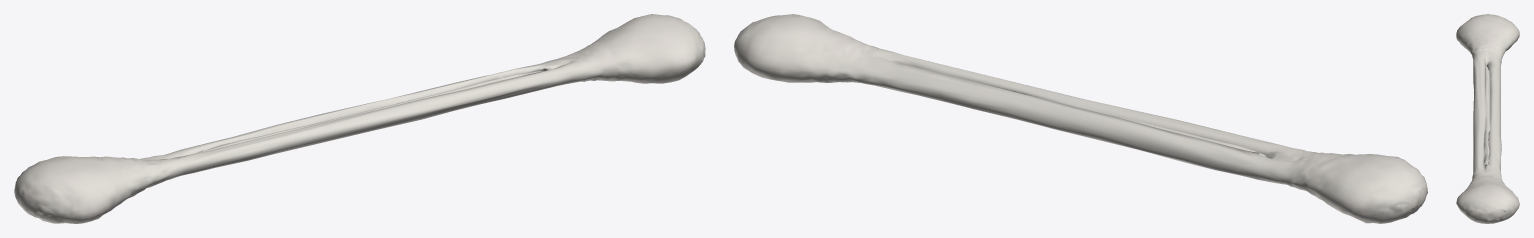
Rendered from 019f4eda-23d4-7015-98ac-538ab8c184fc.glb.
3 views of the same model, side by side, from view 1: azimuth 30°, elevation 25°; view 2: azimuth 150°, elevation 25°; view 3: azimuth 270°, elevation 25° (orthographic). The views are drawn at different scales.
Visible parts, largest first — view 1: tripo_node_932be104-0d7a-4e3b-8c7f-ee897dd96092; view 2: tripo_node_932be104-0d7a-4e3b-8c7f-ee897dd96092; view 3: tripo_node_932be104-0d7a-4e3b-8c7f-ee897dd96092.
Part boxes in pixels (x1,y1,x2,y2): tripo_node_932be104-0d7a-4e3b-8c7f-ee897dd96092: [14, 14, 705, 223]; tripo_node_932be104-0d7a-4e3b-8c7f-ee897dd96092: [734, 14, 1427, 223]; tripo_node_932be104-0d7a-4e3b-8c7f-ee897dd96092: [1456, 14, 1519, 223].
Bounding box in the file's own units: 0.998 × 0.0723 × 0.1387.
1 material, 1 textured.
